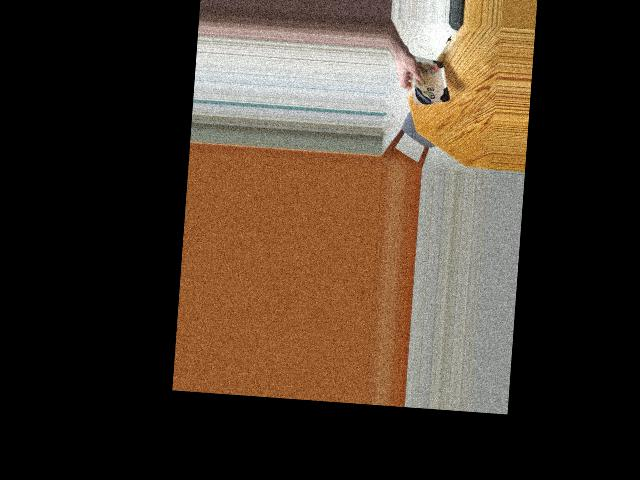cheese: (409, 50, 449, 109)
